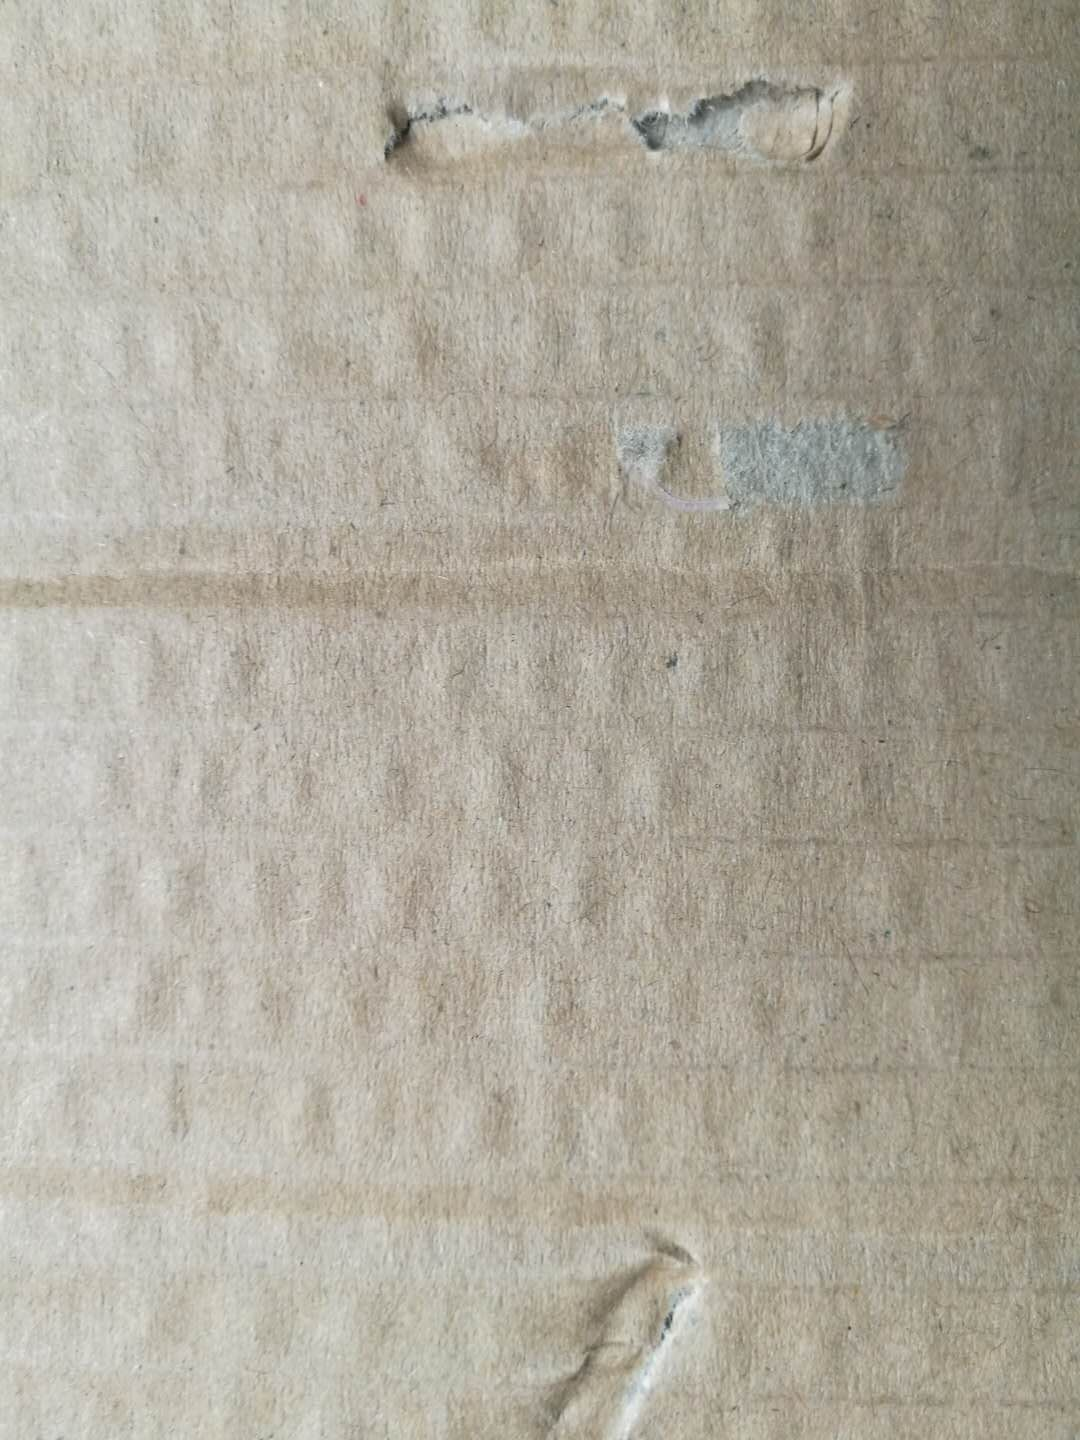defect: (3, 498, 1080, 670), (341, 36, 877, 207), (575, 384, 946, 544), (505, 1208, 753, 1440)
